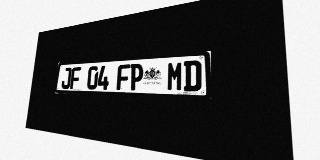0: (87, 66, 99, 90)
4: (97, 65, 110, 90)
D: (184, 60, 201, 91)
F: (116, 64, 130, 90), (70, 67, 81, 89)
J: (61, 67, 72, 89)
M: (167, 61, 183, 91)
P: (129, 63, 144, 90)
